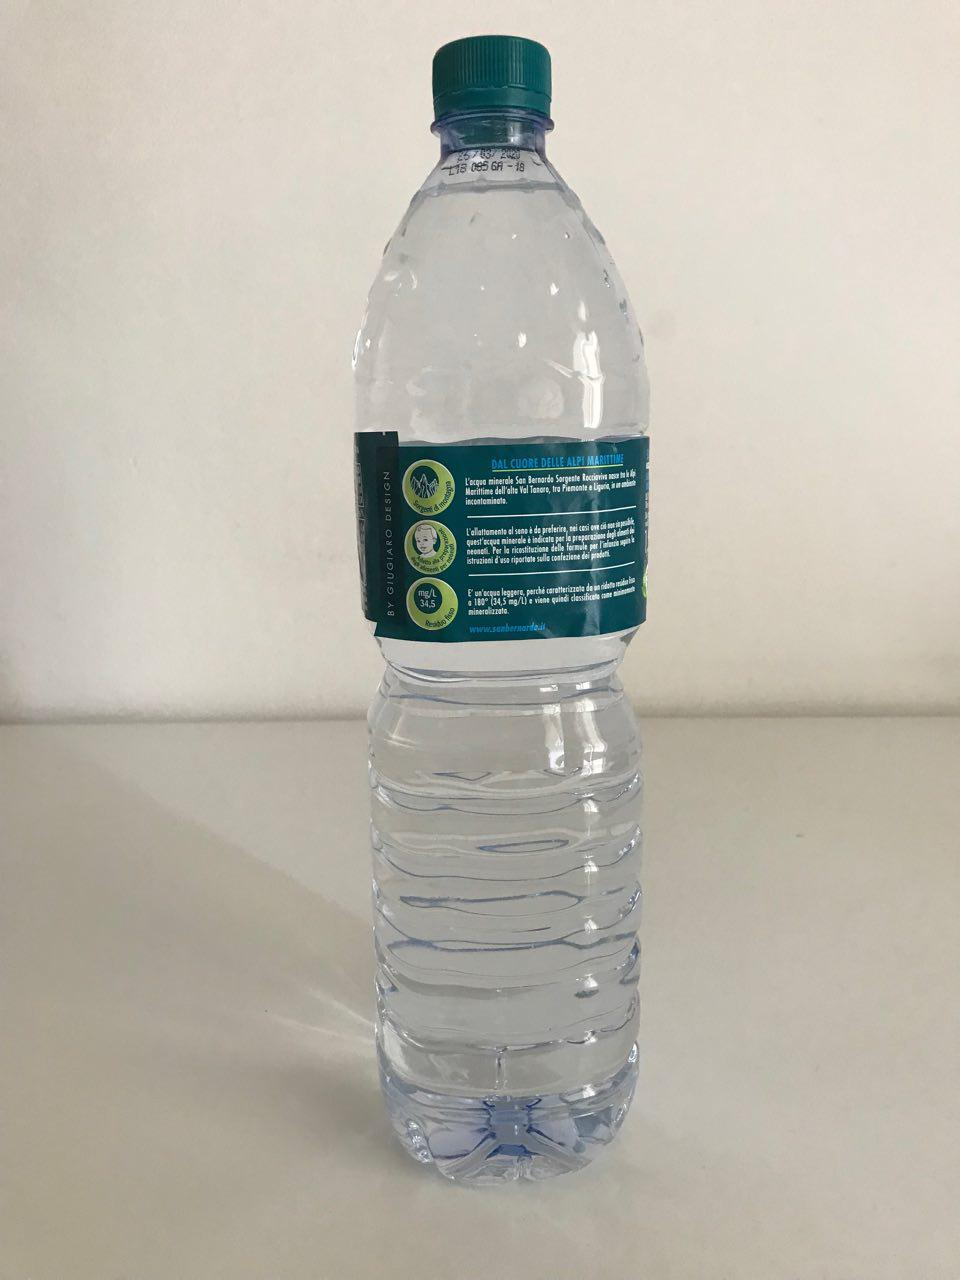san_bernardo: (348, 32, 653, 1190)
